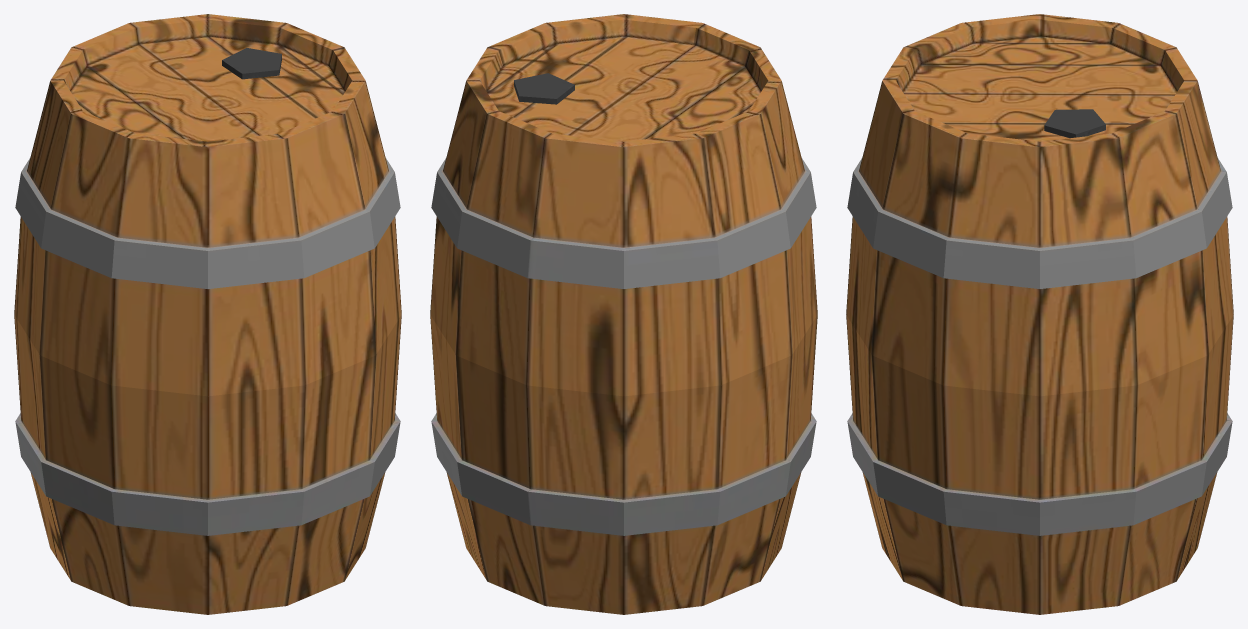
Rendered from barrel.glb.
3 renders of one model, left to right at view 1: azimuth 30°, elevation 25°; view 2: azimuth 150°, elevation 25°; view 3: azimuth 270°, elevation 25°, orthographic.
Visible parts, largest first — view 1: Wooden Barrel; view 2: Wooden Barrel; view 3: Wooden Barrel.
Part boxes in pixels (<box>): Wooden Barrel: <box>14,14,401,614</box>; Wooden Barrel: <box>430,14,817,614</box>; Wooden Barrel: <box>846,14,1233,614</box>.
Bounding box in the file's own units: 0.6761 × 0.9 × 0.6761.
Materials: 1 (1 with a texture image).
